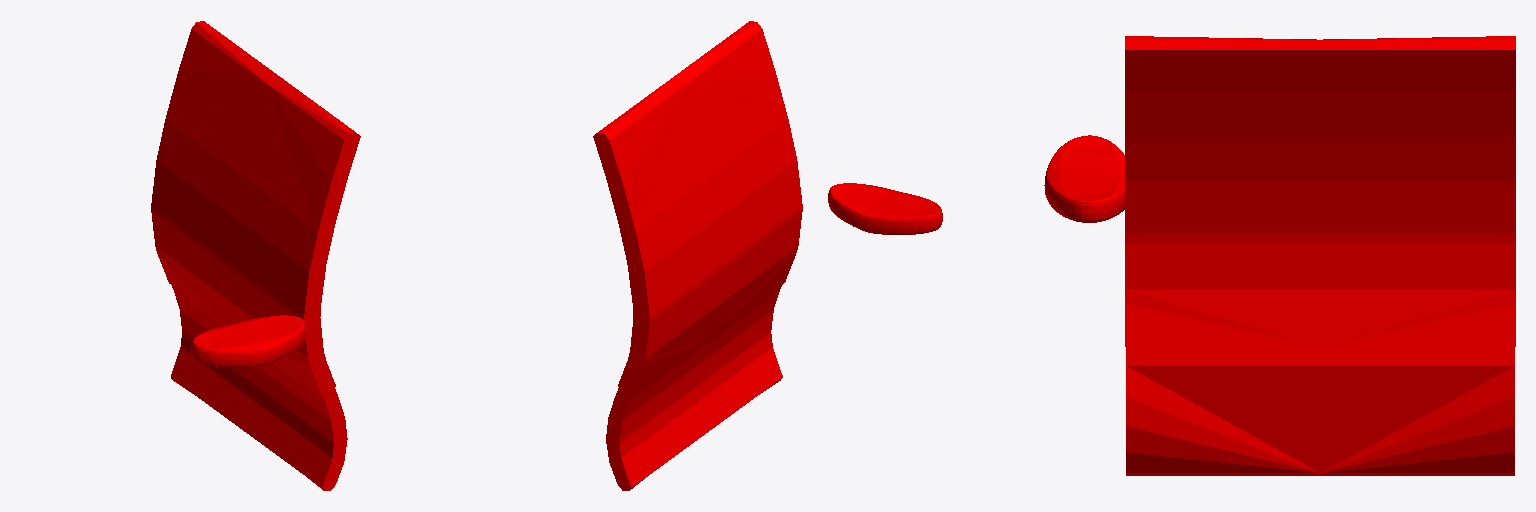
The robot description file, URDF, robot "partnet_6f36520144753550f91663a74ccd2338":
<?xml version="1.0" ?>
<robot name="partnet_6f36520144753550f91663a74ccd2338">
	<material name="Red">
    	<color rgba="1.0 0.0 0.0 1.0"/>
  	</material>
	<link name="base"/>
	<link name="link_0">
		<visual name="caster_stem-88">
			<origin xyz="-0.004824560353282527 0.6854306951624354 -0.6261094488673553"/>
			<geometry>
				<mesh filename="textured_objs/original-1.obj"/>
			</geometry>
		</visual>
		<collision>
			<origin xyz="-0.004824560353282527 0.6854306951624354 -0.6261094488673553"/>
			<geometry>
				<mesh filename="textured_objs/original-1.obj"/>
			</geometry>
		</collision>
	</link>
	<joint name="joint_0" type="continuous">
		<origin xyz="0.004824560353282527 -0.6854306951624354 0.6261094488673553"/>
		<axis xyz="0 1 0"/>
		<child link="link_0"/>
		<parent link="link_16"/>
	</joint>
	<link name="link_1">
		<visual name="wheel-89">
			<origin xyz="0 0.787426 -0.6367505"/>
			<geometry>
				<mesh filename="textured_objs/original-13.obj"/>
			</geometry>
		</visual>
		<collision>
			<origin xyz="0 0.787426 -0.6367505"/>
			<geometry>
				<mesh filename="textured_objs/original-13.obj"/>
			</geometry>
		</collision>
	</link>
	<joint name="joint_1" type="continuous">
		<origin xyz="-0.004824560353282527 -0.10199530483756458 0.010641051132644685"/>
		<axis xyz="1 0 0"/>
		<child link="link_1"/>
		<parent link="link_0"/>
	</joint>
	<link name="link_2">
		<visual name="wheel-90">
			<origin xyz="0 0.787426 -0.6367505"/>
			<geometry>
				<mesh filename="textured_objs/original-22.obj"/>
			</geometry>
		</visual>
		<collision>
			<origin xyz="0 0.787426 -0.6367505"/>
			<geometry>
				<mesh filename="textured_objs/original-22.obj"/>
			</geometry>
		</collision>
	</link>
	<joint name="joint_2" type="continuous">
		<origin xyz="-0.004824560353282527 -0.10199530483756458 0.010641051132644685"/>
		<axis xyz="1 0 0"/>
		<child link="link_2"/>
		<parent link="link_0"/>
	</joint>
	<link name="link_3">
		<visual name="caster_stem-85">
			<origin xyz="0.4752625738710319 0.6813977063051926 -0.2731863872516069"/>
			<geometry>
				<mesh filename="textured_objs/original-3.obj"/>
			</geometry>
		</visual>
		<collision>
			<origin xyz="0.4752625738710319 0.6813977063051926 -0.2731863872516069"/>
			<geometry>
				<mesh filename="textured_objs/original-3.obj"/>
			</geometry>
		</collision>
	</link>
	<joint name="joint_3" type="continuous">
		<origin xyz="-0.4752625738710319 -0.6813977063051926 0.2731863872516069"/>
		<axis xyz="0 1 0"/>
		<child link="link_3"/>
		<parent link="link_16"/>
	</joint>
	<link name="link_4">
		<visual name="wheel-86">
			<origin xyz="0.5200274031646904 0.7874214223528662 -0.17040334689669234"/>
			<geometry>
				<mesh filename="textured_objs/original-23.obj"/>
			</geometry>
		</visual>
		<collision>
			<origin xyz="0.5200274031646904 0.7874214223528662 -0.17040334689669234"/>
			<geometry>
				<mesh filename="textured_objs/original-23.obj"/>
			</geometry>
		</collision>
	</link>
	<joint name="joint_4" type="continuous">
		<origin xyz="-0.04476482929365855 -0.10602371604767358 -0.10278304035491453"/>
		<axis xyz="-0.31143727124422005 3.465755326456095e-05 -0.9502667124964487"/>
		<child link="link_4"/>
		<parent link="link_3"/>
	</joint>
	<link name="link_5">
		<visual name="wheel-87">
			<origin xyz="0.5200274031646904 0.7874214223528662 -0.17040334689669234"/>
			<geometry>
				<mesh filename="textured_objs/original-18.obj"/>
			</geometry>
		</visual>
		<collision>
			<origin xyz="0.5200274031646904 0.7874214223528662 -0.17040334689669234"/>
			<geometry>
				<mesh filename="textured_objs/original-18.obj"/>
			</geometry>
		</collision>
	</link>
	<joint name="joint_5" type="continuous">
		<origin xyz="-0.04476482929365855 -0.10602371604767358 -0.10278304035491453"/>
		<axis xyz="-0.31143727124422005 3.465755326456095e-05 -0.9502667124964487"/>
		<child link="link_5"/>
		<parent link="link_3"/>
	</joint>
	<link name="link_6">
		<visual name="caster_stem-82">
			<origin xyz="0.29202366712906264 0.6795459934029324 0.2836826633212231"/>
			<geometry>
				<mesh filename="textured_objs/original-10.obj"/>
			</geometry>
		</visual>
		<collision>
			<origin xyz="0.29202366712906264 0.6795459934029324 0.2836826633212231"/>
			<geometry>
				<mesh filename="textured_objs/original-10.obj"/>
			</geometry>
		</collision>
	</link>
	<joint name="joint_6" type="continuous">
		<origin xyz="-0.29202366712906264 -0.6795459934029324 -0.2836826633212231"/>
		<axis xyz="0 1 0"/>
		<child link="link_6"/>
		<parent link="link_16"/>
	</joint>
	<link name="link_7">
		<visual name="wheel-83">
			<origin xyz="0.24637015095313 0.7874259922691701 0.33729412690697513"/>
			<geometry>
				<mesh filename="textured_objs/original-2.obj"/>
			</geometry>
		</visual>
		<collision>
			<origin xyz="0.24637015095313 0.7874259922691701 0.33729412690697513"/>
			<geometry>
				<mesh filename="textured_objs/original-2.obj"/>
			</geometry>
		</collision>
	</link>
	<joint name="joint_7" type="continuous">
		<origin xyz="0.045653516175932635 -0.10787999886623767 -0.05361146358575203"/>
		<axis xyz="-0.8075151932136608 -5.378786135316403e-06 0.5898467705261876"/>
		<child link="link_7"/>
		<parent link="link_6"/>
	</joint>
	<link name="link_8">
		<visual name="wheel-84">
			<origin xyz="0.24637015095313 0.7874259922691701 0.33729412690697513"/>
			<geometry>
				<mesh filename="textured_objs/original-14.obj"/>
			</geometry>
		</visual>
		<collision>
			<origin xyz="0.24637015095313 0.7874259922691701 0.33729412690697513"/>
			<geometry>
				<mesh filename="textured_objs/original-14.obj"/>
			</geometry>
		</collision>
	</link>
	<joint name="joint_8" type="continuous">
		<origin xyz="0.045653516175932635 -0.10787999886623767 -0.05361146358575203"/>
		<axis xyz="-0.8075151932136608 -5.378786135316403e-06 0.5898467705261876"/>
		<child link="link_8"/>
		<parent link="link_6"/>
	</joint>
	<link name="link_9">
		<visual name="caster_stem-79">
			<origin xyz="-0.30236794036172887 0.8301428355032825 0.27784855936927083"/>
			<geometry>
				<mesh filename="textured_objs/original-15.obj"/>
			</geometry>
		</visual>
		<collision>
			<origin xyz="-0.30236794036172887 0.8301428355032825 0.27784855936927083"/>
			<geometry>
				<mesh filename="textured_objs/original-15.obj"/>
			</geometry>
		</collision>
	</link>
	<joint name="joint_9" type="continuous">
		<origin xyz="0.30236794036172887 -0.8301428355032825 -0.27784855936927083"/>
		<axis xyz="0 1 0"/>
		<child link="link_9"/>
		<parent link="link_16"/>
	</joint>
	<link name="link_10">
		<visual name="wheel-80">
			<origin xyz="-0.25018009075653685 0.7874265 0.34629613868353354"/>
			<geometry>
				<mesh filename="textured_objs/original-35.obj"/>
			</geometry>
		</visual>
		<collision>
			<origin xyz="-0.25018009075653685 0.7874265 0.34629613868353354"/>
			<geometry>
				<mesh filename="textured_objs/original-35.obj"/>
			</geometry>
		</collision>
	</link>
	<joint name="joint_10" type="continuous">
		<origin xyz="-0.052187849605192016 0.042716335503282465 -0.06844757931426271"/>
		<axis xyz="-0.8105932913436219 0 -0.5856095252202734"/>
		<child link="link_10"/>
		<parent link="link_9"/>
	</joint>
	<link name="link_11">
		<visual name="wheel-81">
			<origin xyz="-0.25018009075653685 0.7874265 0.34629613868353354"/>
			<geometry>
				<mesh filename="textured_objs/original-36.obj"/>
			</geometry>
		</visual>
		<collision>
			<origin xyz="-0.25018009075653685 0.7874265 0.34629613868353354"/>
			<geometry>
				<mesh filename="textured_objs/original-36.obj"/>
			</geometry>
		</collision>
	</link>
	<joint name="joint_11" type="continuous">
		<origin xyz="-0.052187849605192016 0.042716335503282465 -0.06844757931426271"/>
		<axis xyz="-0.8105932913436219 0 -0.5856095252202734"/>
		<child link="link_11"/>
		<parent link="link_9"/>
	</joint>
	<link name="link_12">
		<visual name="caster_stem-76">
			<origin xyz="-0.47971523710225916 0.685311767391215 -0.26765977873258134"/>
			<geometry>
				<mesh filename="textured_objs/original-11.obj"/>
			</geometry>
		</visual>
		<collision>
			<origin xyz="-0.47971523710225916 0.685311767391215 -0.26765977873258134"/>
			<geometry>
				<mesh filename="textured_objs/original-11.obj"/>
			</geometry>
		</collision>
	</link>
	<joint name="joint_12" type="continuous">
		<origin xyz="0.47971523710225916 -0.685311767391215 0.26765977873258134"/>
		<axis xyz="0 1 0"/>
		<child link="link_12"/>
		<parent link="link_16"/>
	</joint>
	<link name="link_13">
		<visual name="wheel-77">
			<origin xyz="-0.535542535061673 0.7874356648073184 -0.1725515112167239"/>
			<geometry>
				<mesh filename="textured_objs/original-33.obj"/>
			</geometry>
		</visual>
		<collision>
			<origin xyz="-0.535542535061673 0.7874356648073184 -0.1725515112167239"/>
			<geometry>
				<mesh filename="textured_objs/original-33.obj"/>
			</geometry>
		</collision>
	</link>
	<joint name="joint_13" type="continuous">
		<origin xyz="0.05582729795941388 -0.10212389741610339 -0.09510826751585744"/>
		<axis xyz="0.3065887364620658 -6.41029691319091e-05 -0.951842078585205"/>
		<child link="link_13"/>
		<parent link="link_12"/>
	</joint>
	<link name="link_14">
		<visual name="wheel-78">
			<origin xyz="-0.535542535061673 0.7874356648073184 -0.1725515112167239"/>
			<geometry>
				<mesh filename="textured_objs/original-34.obj"/>
			</geometry>
		</visual>
		<collision>
			<origin xyz="-0.535542535061673 0.7874356648073184 -0.1725515112167239"/>
			<geometry>
				<mesh filename="textured_objs/original-34.obj"/>
			</geometry>
		</collision>
	</link>
	<joint name="joint_14" type="continuous">
		<origin xyz="0.05582729795941388 -0.10212389741610339 -0.09510826751585744"/>
		<axis xyz="0.3065887364620658 -6.41029691319091e-05 -0.951842078585205"/>
		<child link="link_14"/>
		<parent link="link_12"/>
	</joint>
	<link name="link_15">
		<visual name="back_soft_surface-105">
			<origin xyz="-0.0069497679964117265 0 -0.118190120704646"/>
			<geometry>
				<mesh filename="textured_objs/original-19.obj"/>
			</geometry>
			<material name="Red" />
		</visual>
		<visual name="back_soft_surface-105">
			<origin xyz="-0.0069497679964117265 0 -0.118190120704646"/>
			<geometry>
				<mesh filename="textured_objs/original-4.obj"/>
			</geometry>
			<material name="Red" />
		</visual>
		<visual name="armrest_soft_surface-99">
			<origin xyz="-0.0069497679964117265 0 -0.118190120704646"/>
			<geometry>
				<mesh filename="textured_objs/original-26.obj"/>
			</geometry>
			<material name="Red" />
		</visual>
		<visual name="arm_vertical_bar-100">
			<origin xyz="-0.0069497679964117265 0 -0.118190120704646"/>
			<geometry>
				<mesh filename="textured_objs/new-4.obj"/>
			</geometry>
		</visual>
		<visual name="arm_horizontal_bar-101">
			<origin xyz="-0.0069497679964117265 0 -0.118190120704646"/>
			<geometry>
				<mesh filename="textured_objs/new-5.obj"/>
			</geometry>
		</visual>
		<visual name="other_leaf-103">
			<origin xyz="-0.0069497679964117265 0 -0.118190120704646"/>
			<geometry>
				<mesh filename="textured_objs/original-29.obj"/>
			</geometry>
		</visual>
		<visual name="other_leaf-103">
			<origin xyz="-0.0069497679964117265 0 -0.118190120704646"/>
			<geometry>
				<mesh filename="textured_objs/original-16.obj"/>
			</geometry>
		</visual>
		<visual name="armrest_soft_surface-94">
			<origin xyz="-0.0069497679964117265 0 -0.118190120704646"/>
			<geometry>
				<mesh filename="textured_objs/original-25.obj"/>
			</geometry>
		</visual>
		<visual name="arm_vertical_bar-95">
			<origin xyz="-0.0069497679964117265 0 -0.118190120704646"/>
			<geometry>
				<mesh filename="textured_objs/new-2.obj"/>
			</geometry>
		</visual>
		<visual name="arm_horizontal_bar-96">
			<origin xyz="-0.0069497679964117265 0 -0.118190120704646"/>
			<geometry>
				<mesh filename="textured_objs/new-3.obj"/>
			</geometry>
		</visual>
		<visual name="other_leaf-98">
			<origin xyz="-0.0069497679964117265 0 -0.118190120704646"/>
			<geometry>
				<mesh filename="textured_objs/original-8.obj"/>
			</geometry>
		</visual>
		<visual name="other_leaf-98">
			<origin xyz="-0.0069497679964117265 0 -0.118190120704646"/>
			<geometry>
				<mesh filename="textured_objs/original-28.obj"/>
			</geometry>
		</visual>
		<visual name="seat_soft_surface-93">
			<origin xyz="-0.0069497679964117265 0 -0.118190120704646"/>
			<geometry>
				<mesh filename="textured_objs/original-21.obj"/>
			</geometry>
		</visual>
		<visual name="seat_support-92">
			<origin xyz="-0.0069497679964117265 0 -0.118190120704646"/>
			<geometry>
				<mesh filename="textured_objs/original-7.obj"/>
			</geometry>
		</visual>
		<visual name="seat_support-92">
			<origin xyz="-0.0069497679964117265 0 -0.118190120704646"/>
			<geometry>
				<mesh filename="textured_objs/original-12.obj"/>
			</geometry>
		</visual>
		<visual name="central_support-61">
			<origin xyz="-0.0069497679964117265 0 -0.118190120704646"/>
			<geometry>
				<mesh filename="textured_objs/original-9.obj"/>
			</geometry>
		</visual>
		<visual name="seat_connector-65">
			<origin xyz="-0.0069497679964117265 0 -0.118190120704646"/>
			<geometry>
				<mesh filename="textured_objs/original-17.obj"/>
			</geometry>
		</visual>
		<collision>
			<origin xyz="-0.0069497679964117265 0 -0.118190120704646"/>
			<geometry>
				<mesh filename="textured_objs/original-19.obj"/>
			</geometry>
		</collision>
		<collision>
			<origin xyz="-0.0069497679964117265 0 -0.118190120704646"/>
			<geometry>
				<mesh filename="textured_objs/original-4.obj"/>
			</geometry>
		</collision>
		<collision>
			<origin xyz="-0.0069497679964117265 0 -0.118190120704646"/>
			<geometry>
				<mesh filename="textured_objs/original-26.obj"/>
			</geometry>
		</collision>
		<collision>
			<origin xyz="-0.0069497679964117265 0 -0.118190120704646"/>
			<geometry>
				<mesh filename="textured_objs/new-4.obj"/>
			</geometry>
		</collision>
		<collision>
			<origin xyz="-0.0069497679964117265 0 -0.118190120704646"/>
			<geometry>
				<mesh filename="textured_objs/new-5.obj"/>
			</geometry>
		</collision>
		<collision>
			<origin xyz="-0.0069497679964117265 0 -0.118190120704646"/>
			<geometry>
				<mesh filename="textured_objs/original-29.obj"/>
			</geometry>
		</collision>
		<collision>
			<origin xyz="-0.0069497679964117265 0 -0.118190120704646"/>
			<geometry>
				<mesh filename="textured_objs/original-16.obj"/>
			</geometry>
		</collision>
		<collision>
			<origin xyz="-0.0069497679964117265 0 -0.118190120704646"/>
			<geometry>
				<mesh filename="textured_objs/original-25.obj"/>
			</geometry>
		</collision>
		<collision>
			<origin xyz="-0.0069497679964117265 0 -0.118190120704646"/>
			<geometry>
				<mesh filename="textured_objs/new-2.obj"/>
			</geometry>
		</collision>
		<collision>
			<origin xyz="-0.0069497679964117265 0 -0.118190120704646"/>
			<geometry>
				<mesh filename="textured_objs/new-3.obj"/>
			</geometry>
		</collision>
		<collision>
			<origin xyz="-0.0069497679964117265 0 -0.118190120704646"/>
			<geometry>
				<mesh filename="textured_objs/original-8.obj"/>
			</geometry>
		</collision>
		<collision>
			<origin xyz="-0.0069497679964117265 0 -0.118190120704646"/>
			<geometry>
				<mesh filename="textured_objs/original-28.obj"/>
			</geometry>
		</collision>
		<collision>
			<origin xyz="-0.0069497679964117265 0 -0.118190120704646"/>
			<geometry>
				<mesh filename="textured_objs/original-21.obj"/>
			</geometry>
		</collision>
		<collision>
			<origin xyz="-0.0069497679964117265 0 -0.118190120704646"/>
			<geometry>
				<mesh filename="textured_objs/original-7.obj"/>
			</geometry>
		</collision>
		<collision>
			<origin xyz="-0.0069497679964117265 0 -0.118190120704646"/>
			<geometry>
				<mesh filename="textured_objs/original-12.obj"/>
			</geometry>
		</collision>
		<collision>
			<origin xyz="-0.0069497679964117265 0 -0.118190120704646"/>
			<geometry>
				<mesh filename="textured_objs/original-9.obj"/>
			</geometry>
		</collision>
		<collision>
			<origin xyz="-0.0069497679964117265 0 -0.118190120704646"/>
			<geometry>
				<mesh filename="textured_objs/original-17.obj"/>
			</geometry>
		</collision>
	</link>
	<joint name="joint_15" type="continuous">
		<origin xyz="0.0 0 0.0"/>
		<axis xyz="0 1 0"/>
		<child link="link_15"/>
		<parent link="link_15_helper"/>
	</joint>
	<link name="link_16">
		<visual name="central_support-62">
			<origin xyz="0 0 0"/>
			<geometry>
				<mesh filename="textured_objs/original-24.obj"/>
			</geometry>
		</visual>
		<visual name="central_support-63">
			<origin xyz="0 0 0"/>
			<geometry>
				<mesh filename="textured_objs/original-5.obj"/>
			</geometry>
		</visual>
		<visual name="leg-66">
			<origin xyz="0 0 0"/>
			<geometry>
				<mesh filename="textured_objs/original-20.obj"/>
			</geometry>
		</visual>
		<visual name="leg-67">
			<origin xyz="0 0 0"/>
			<geometry>
				<mesh filename="textured_objs/original-6.obj"/>
			</geometry>
		</visual>
		<visual name="leg-68">
			<origin xyz="0 0 0"/>
			<geometry>
				<mesh filename="textured_objs/original-30.obj"/>
			</geometry>
		</visual>
		<visual name="leg-69">
			<origin xyz="0 0 0"/>
			<geometry>
				<mesh filename="textured_objs/original-31.obj"/>
			</geometry>
		</visual>
		<visual name="leg-70">
			<origin xyz="0 0 0"/>
			<geometry>
				<mesh filename="textured_objs/original-32.obj"/>
			</geometry>
		</visual>
		<collision>
			<origin xyz="0 0 0"/>
			<geometry>
				<mesh filename="textured_objs/original-24.obj"/>
			</geometry>
		</collision>
		<collision>
			<origin xyz="0 0 0"/>
			<geometry>
				<mesh filename="textured_objs/original-5.obj"/>
			</geometry>
		</collision>
		<collision>
			<origin xyz="0 0 0"/>
			<geometry>
				<mesh filename="textured_objs/original-20.obj"/>
			</geometry>
		</collision>
		<collision>
			<origin xyz="0 0 0"/>
			<geometry>
				<mesh filename="textured_objs/original-6.obj"/>
			</geometry>
		</collision>
		<collision>
			<origin xyz="0 0 0"/>
			<geometry>
				<mesh filename="textured_objs/original-30.obj"/>
			</geometry>
		</collision>
		<collision>
			<origin xyz="0 0 0"/>
			<geometry>
				<mesh filename="textured_objs/original-31.obj"/>
			</geometry>
		</collision>
		<collision>
			<origin xyz="0 0 0"/>
			<geometry>
				<mesh filename="textured_objs/original-32.obj"/>
			</geometry>
		</collision>
	</link>
	<joint name="joint_16" type="fixed">
		<origin rpy="1.570796326794897 0 -1.570796326794897" xyz="0 0 0"/>
		<child link="link_16"/>
		<parent link="base"/>
	</joint>
	<link name="link_15_helper"/>
	<joint name="joint_17" type="prismatic">
		<origin xyz="0.0069497679964117265 0 0.118190120704646"/>
		<axis xyz="0 -1 0"/>
		<child link="link_15_helper"/>
		<parent link="link_16"/>
		<limit lower="0" upper="0.1"/>
	</joint>
</robot>

--- What the picture shows (computed from the rendered views, not written in the file) ---
The picture shows the robot from 3 angles, left to right: view 1: azimuth 30°, elevation 25°; view 2: azimuth 150°, elevation 25°; view 3: azimuth 270°, elevation 25°; orthographic projection.
Model partnet_6f36520144753550f91663a74ccd2338 with 19 links and 18 joints (16 continuous, 1 prismatic, 1 fixed), rooted at base, posed every joint at zero.
Links seen in each view (by area): view 1: link_15; view 2: link_15; view 3: link_15.
Link boxes in pixels (left/top/right/bottom): link_15: left=151, top=21, right=360, bottom=490; link_15: left=593, top=21, right=942, bottom=490; link_15: left=1044, top=36, right=1515, bottom=475.
Bounding box of the posed robot: 0.5316 × 0.9373 × 0.9908 m (x, y, z).
Meshes: 39 distinct files referenced, 3 mesh visuals loaded (3 OBJ); not drawn: 36 (reference not matched to a file when rendering).